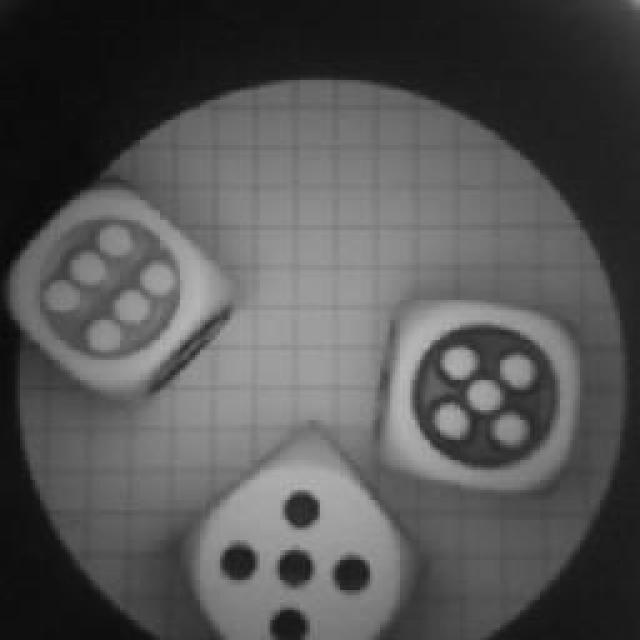dice_5: (167, 425, 435, 640), (375, 287, 597, 495)
dice_6: (2, 180, 240, 410)
